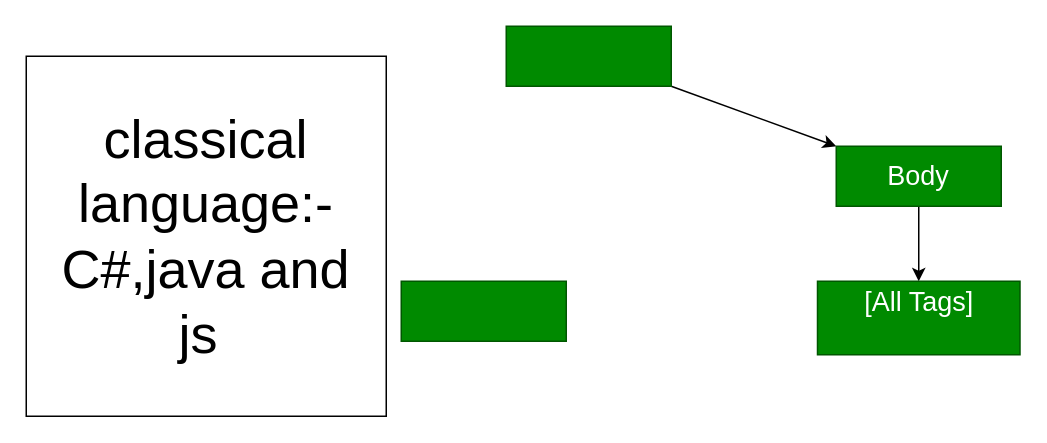
The diagram is 1047 pixels wide and 443 high, and some of its shapes have lost their labels. Here are the shapes that lost their labels. From the top down, the centre of each, then its label:
At (588,55): "HTML".
At (483,310): "title".
